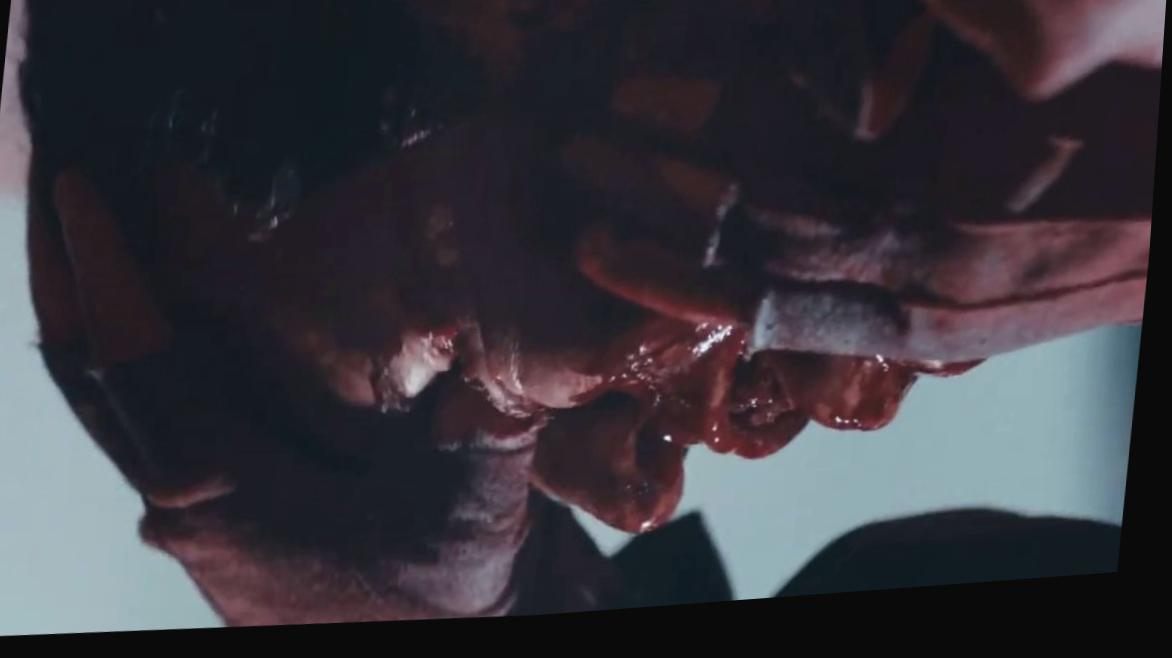Fire: (25, 0, 1168, 632)
